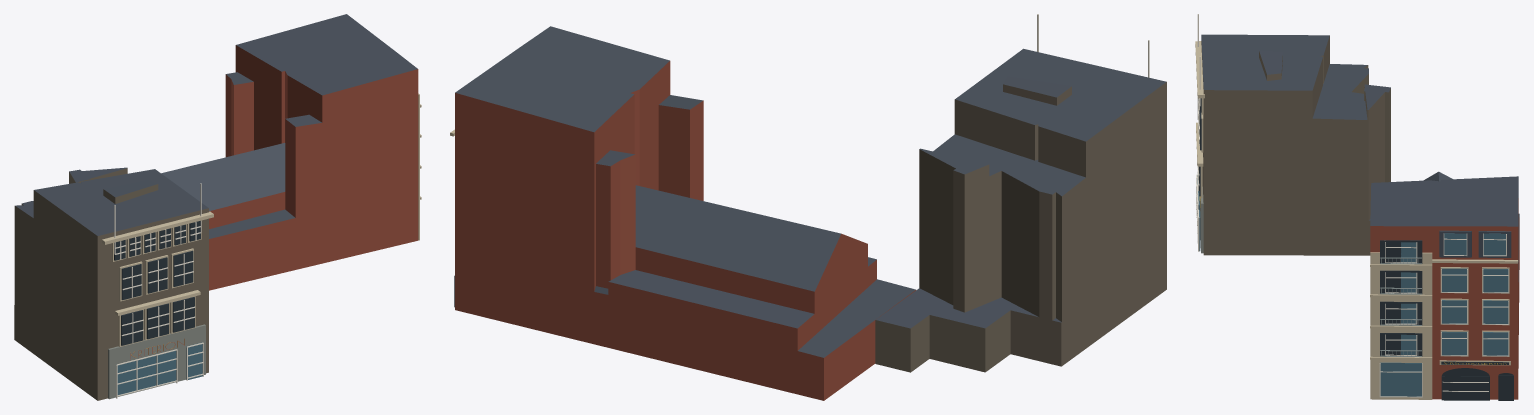
The model's file is kriterion.glb.
The picture shows the model from 3 angles, left to right: view 1: azimuth 30°, elevation 25°; view 2: azimuth 150°, elevation 25°; view 3: azimuth 270°, elevation 25°; orthographic projection. The views are drawn at different scales.
Visible parts, largest first — view 1: kriterion; view 2: kriterion; view 3: kriterion.
Boxes of the visible parts, <box> form: kriterion: <box>14,14,421,400</box>; kriterion: <box>450,14,1166,400</box>; kriterion: <box>1195,14,1519,400</box>.
Bounding box in the file's own units: 45.7 × 20.5 × 31.1.
